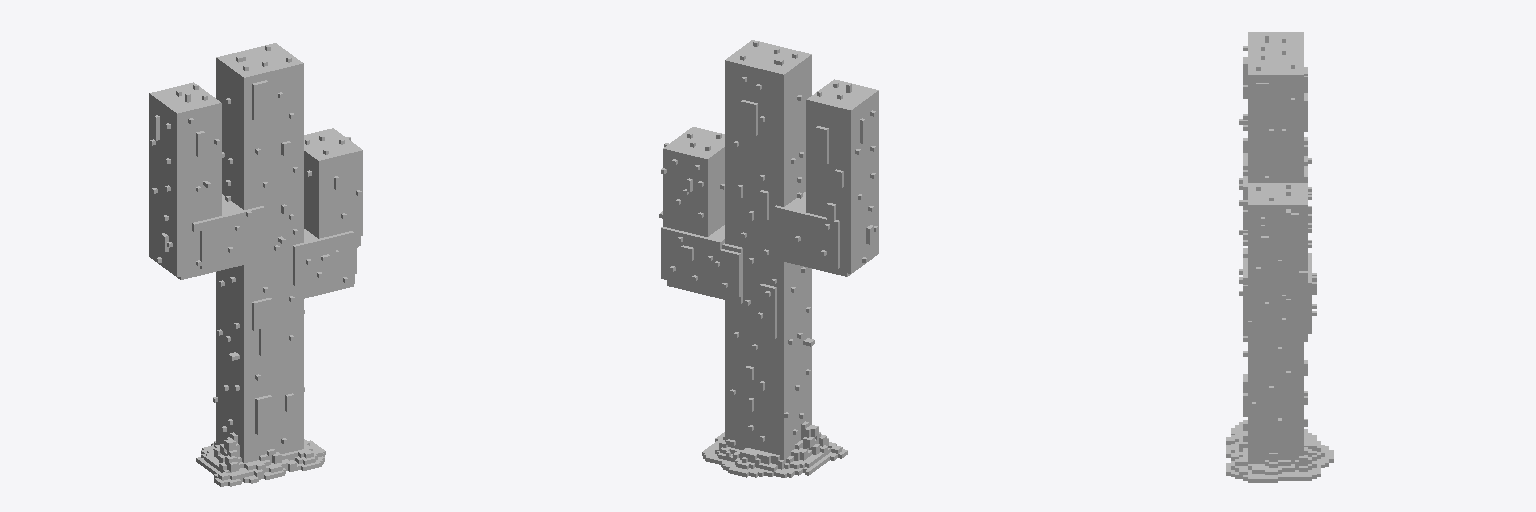
The model's file is cactus.obj.
3 views of the same model, side by side, from view 1: azimuth 30°, elevation 25°; view 2: azimuth 150°, elevation 25°; view 3: azimuth 270°, elevation 25° (orthographic).
Size of the model in its own units: 53 by 103 by 25.